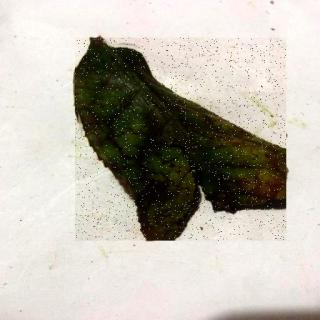Red Leaf Spot: (76, 39, 287, 242)
